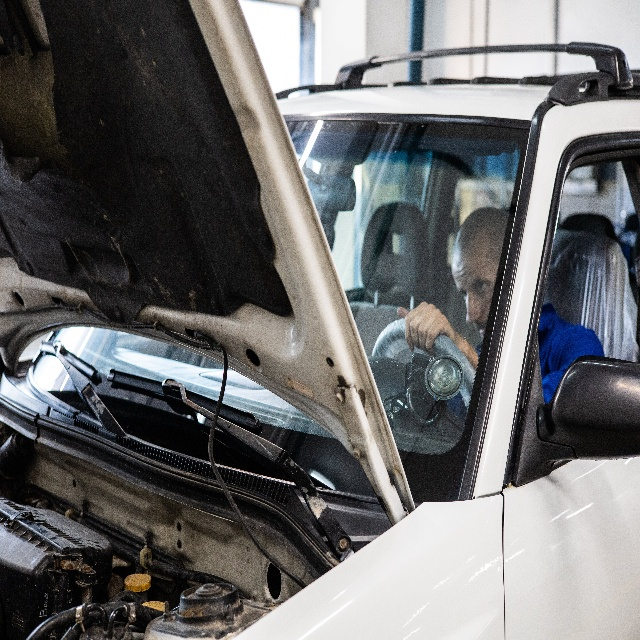Sin_guantes: (397, 301, 456, 355)
